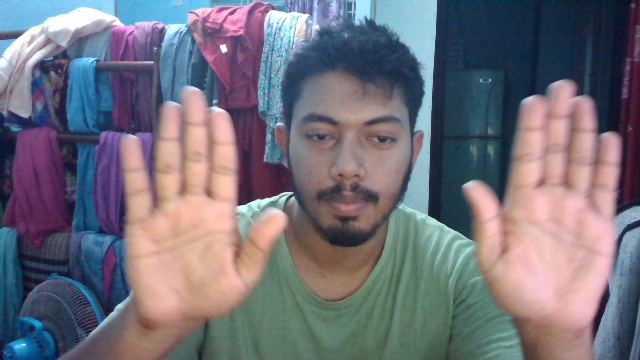thanks: (111, 84, 623, 329)
